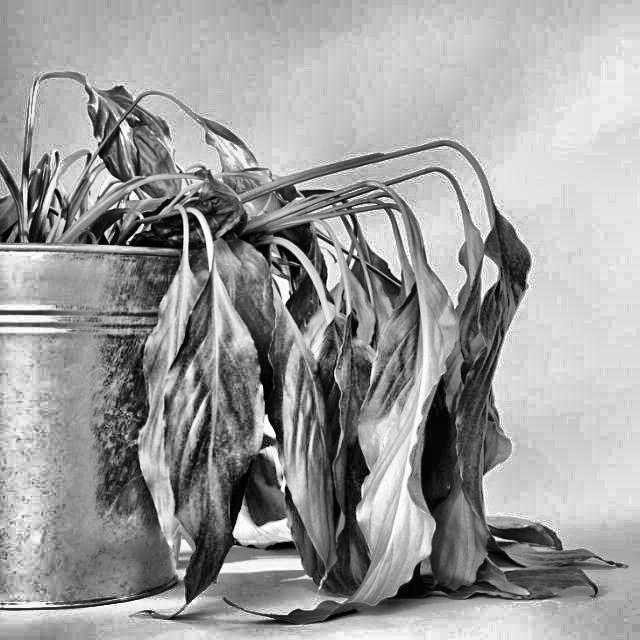plants: (20, 59, 598, 610)
